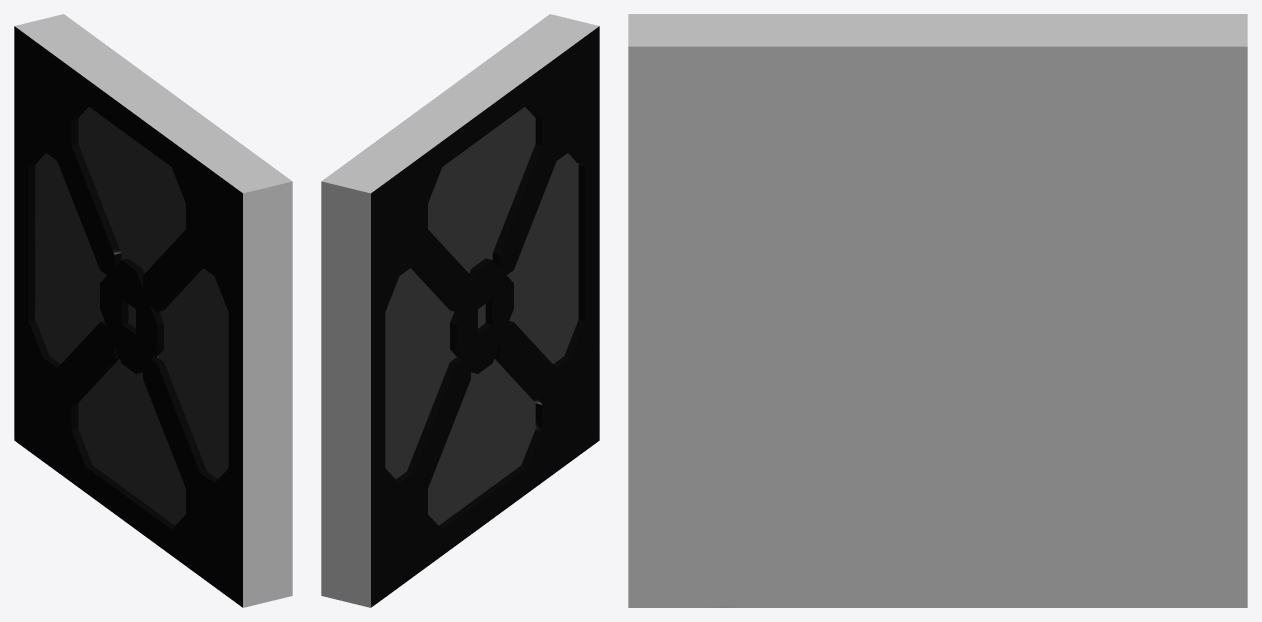
File: wafll.glb
3 views of the same model, side by side, from view 1: azimuth 30°, elevation 25°; view 2: azimuth 150°, elevation 25°; view 3: azimuth 270°, elevation 25° (orthographic). The views are drawn at different scales.
Parts seen in each view (by area): view 1: Cube.001; view 2: Cube.001; view 3: Cube.001.
Boxes of the visible parts, box(x1,y1,x2,y2) form: Cube.001: box(14, 14, 292, 607); Cube.001: box(321, 14, 599, 607); Cube.001: box(628, 14, 1247, 607).
Size of the model in its own units: 0.25 by 2 by 2.
1 material, 1 textured.
